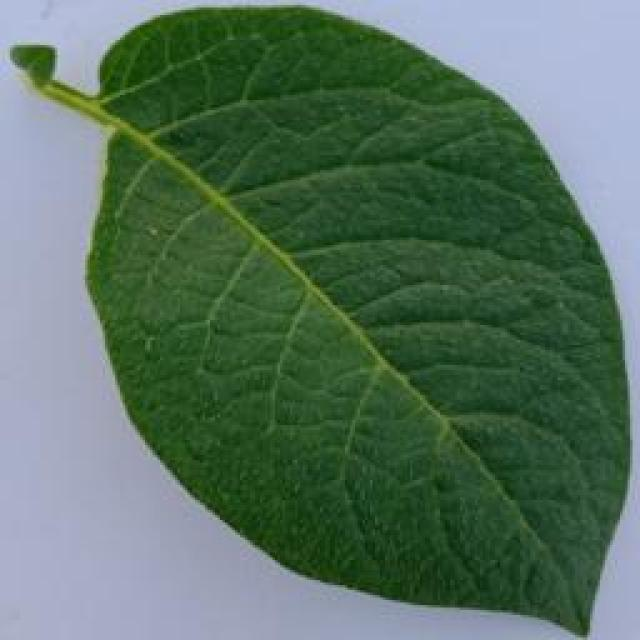Potato_Healthy: (20, 9, 617, 635)
